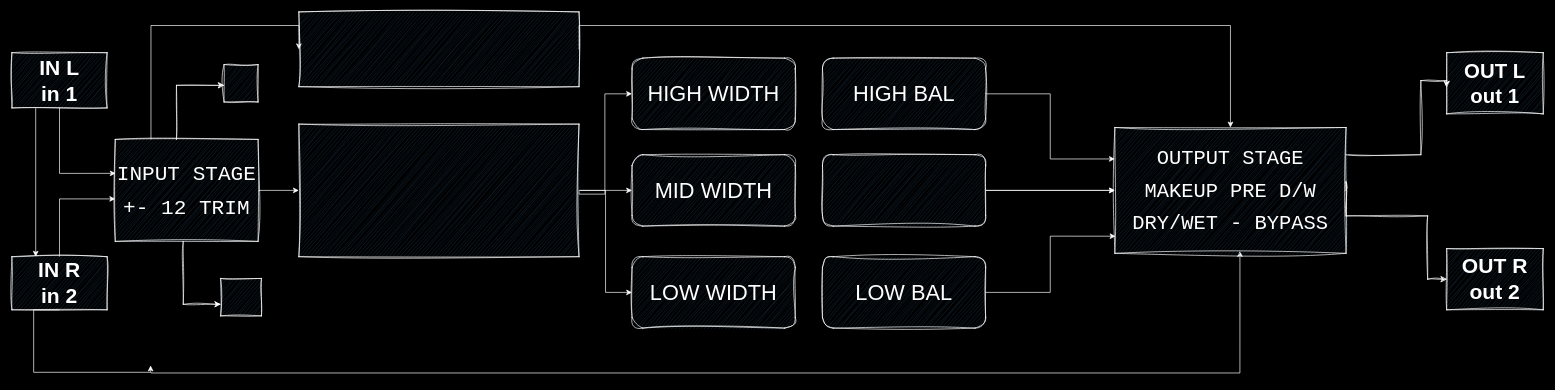
This 1555x390 diagram has some shape labels left out. The shapes that lost their labels are listed below. From the top down, each one's centre as x and y in pixels, then its label:
pixel 438 49: ALL-PASS LR4
pixel 240 83: OUT 4 METER
pixel 438 190: Crossover LR4 LOW - MID - HIGH
pixel 904 190: MID BAL
pixel 240 297: OUT 5 METER
